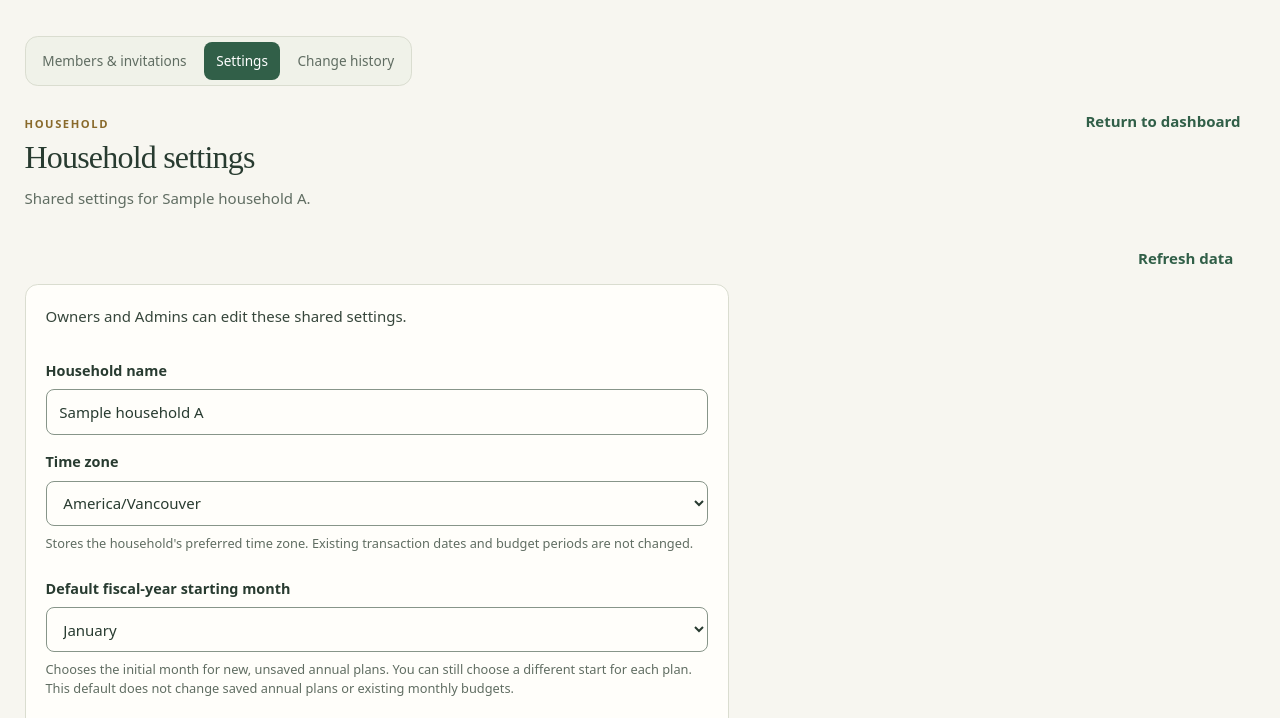
Scenario: household settings feedback and editing › marks retained values stale after a refresh failure and disables writing until retry succeeds
This screenshot has width=1280, height=718.
Check: the field labelled "Household name" is enabled, box [46,389,708,435]
Click the button "Refresh data".
click(1186, 258)  # box [1131,240,1240,276]
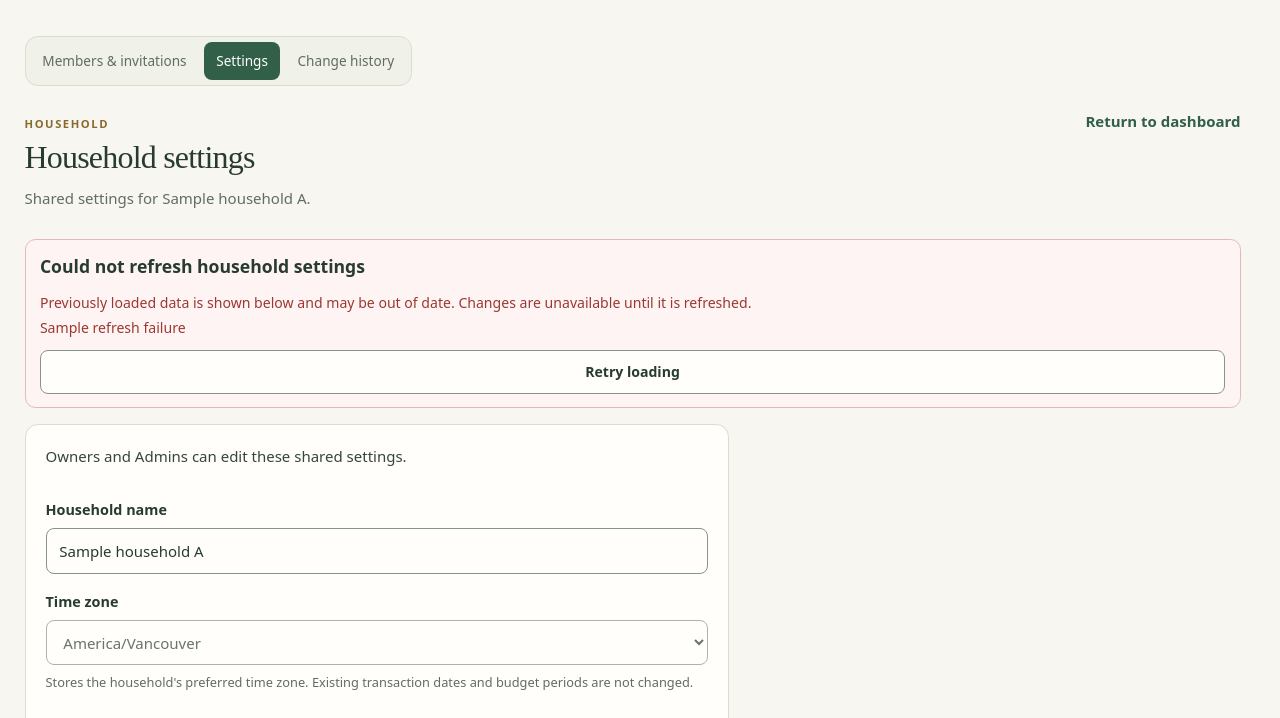
Check: the heading "Could not refresh household settings" is shown, box [40,254,365,278]
Check: the field labelled "Household name" is disabled, box [46,528,708,574]
Check: the text "Previously loaded data is shown below and may be out of date" is shown, box [40,293,751,312]
Click the button "Retry loading".
click(632, 372)  # box [40,350,1225,394]
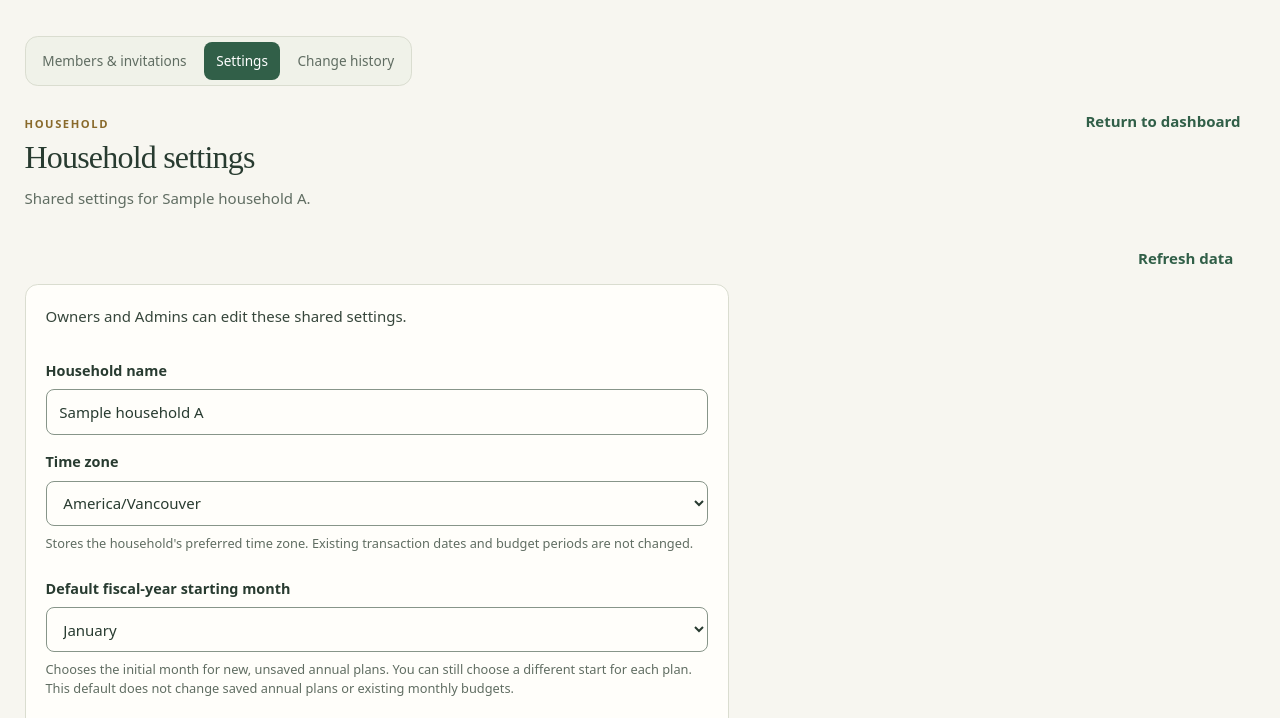
Check: the field labelled "Household name" is enabled, box [46,389,708,435]
